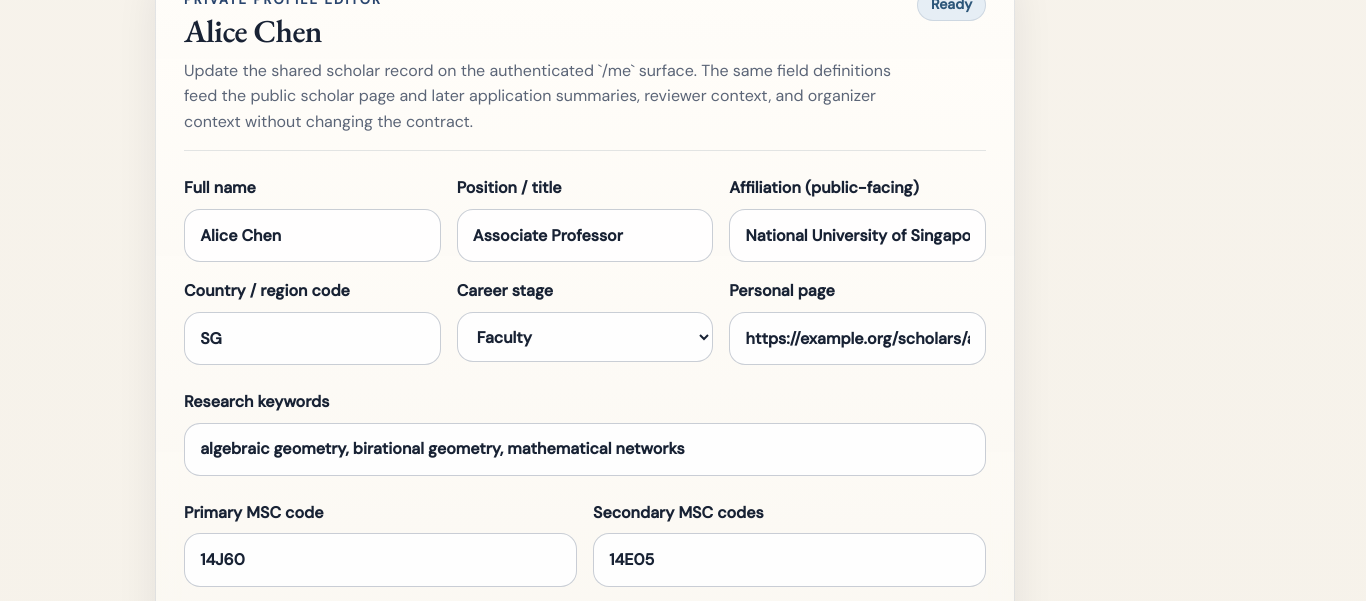
me profile page › shows an explicit saved state after profile changes are submitted
(page scrolled)
Replace the text in the field labelled "Position / title" with "Professor": (585, 236) top-left (457, 209), bottom-right (713, 262)
(page scrolled)
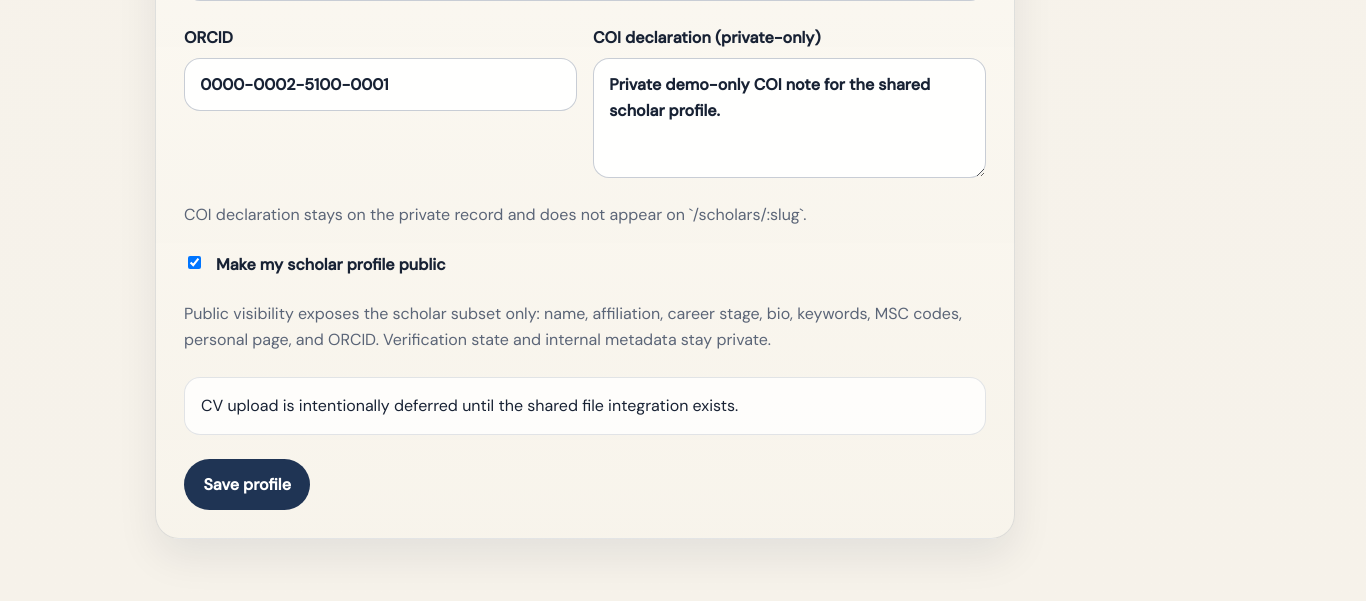
Click the button "Save profile": (247, 484) top-left (184, 459), bottom-right (310, 510)
(page scrolled)
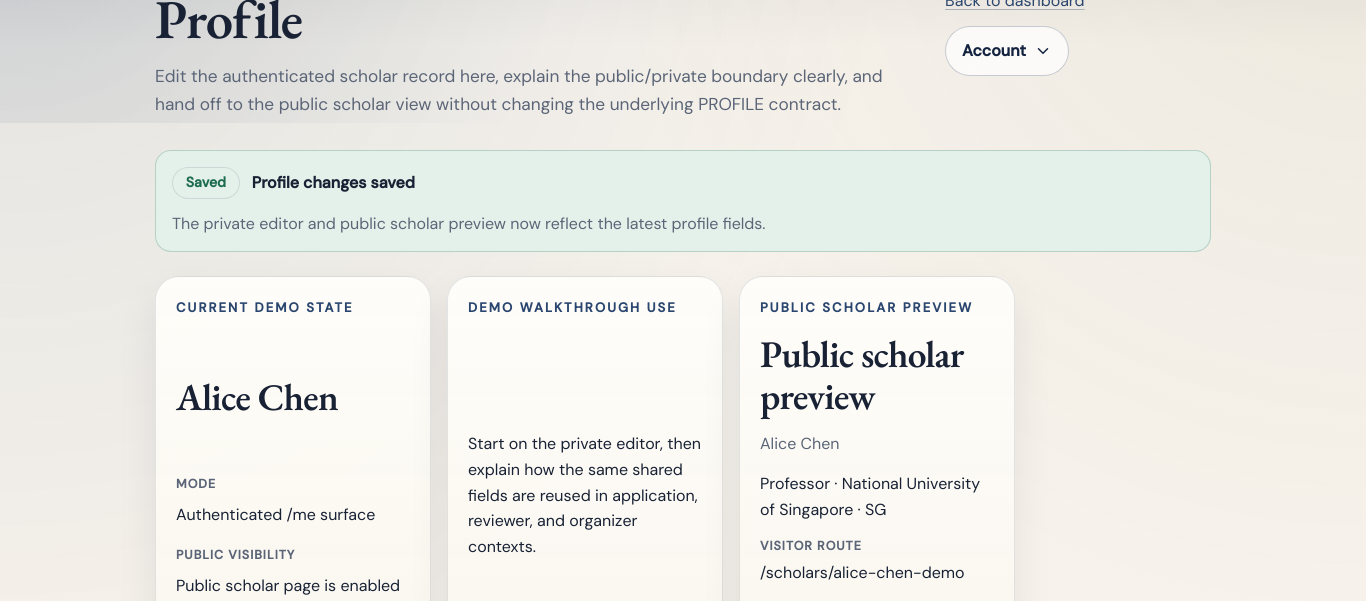
Now the text "Profile changes saved" is shown, box top-left (252, 170), bottom-right (415, 195)
Now the text "the private editor and public scholar preview now reflect the latest profile fields" is shown, box top-left (172, 213), bottom-right (766, 234)
